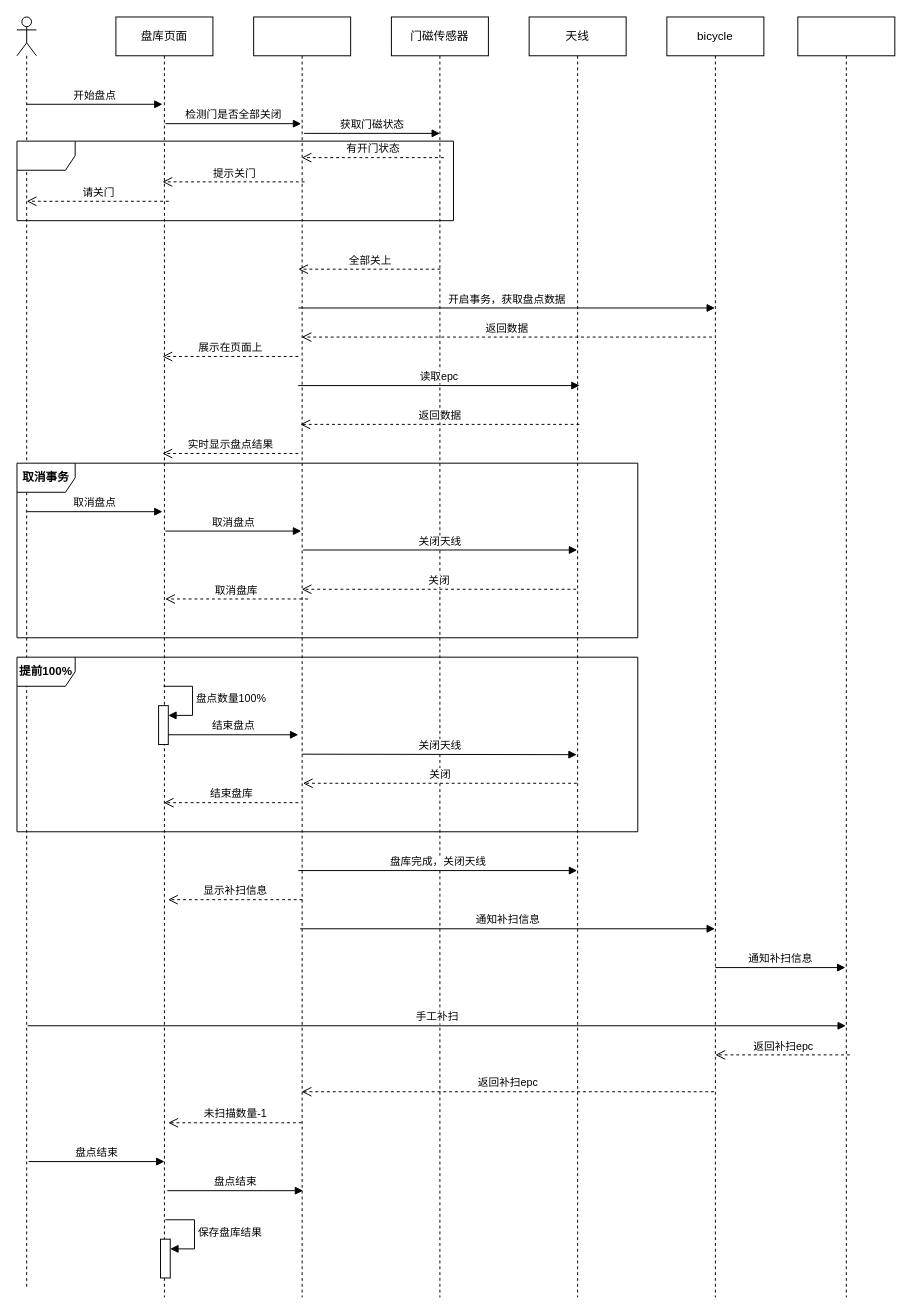
The diagram is 912 pixels wide and 1314 high, and some of its shapes have lost their labels. Each missing label, with the box of its shape:
手持机: (797, 16, 895, 1297)
盘库服务: (253, 16, 351, 1297)
门未关好: (16, 140, 453, 221)
